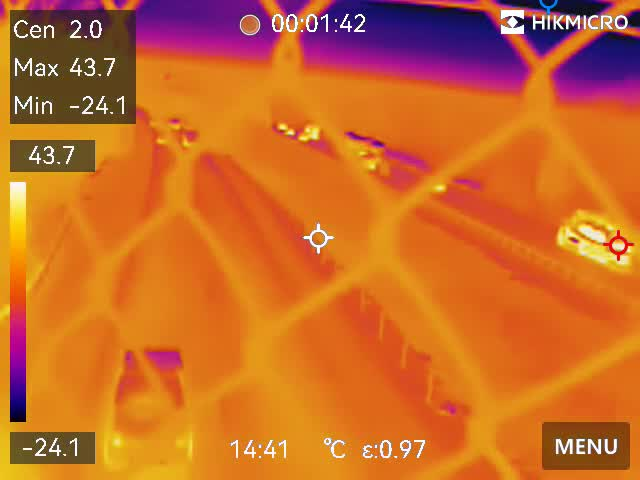vehicle: (98, 342, 200, 479)
